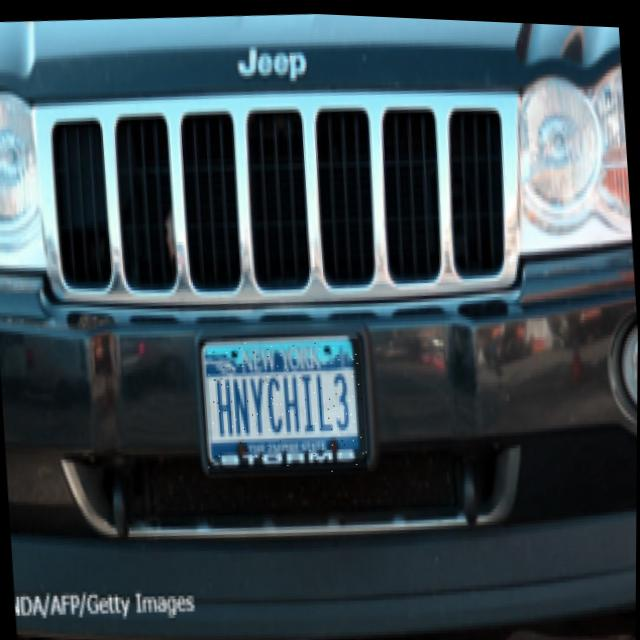license_plate: (200, 329, 369, 478)
